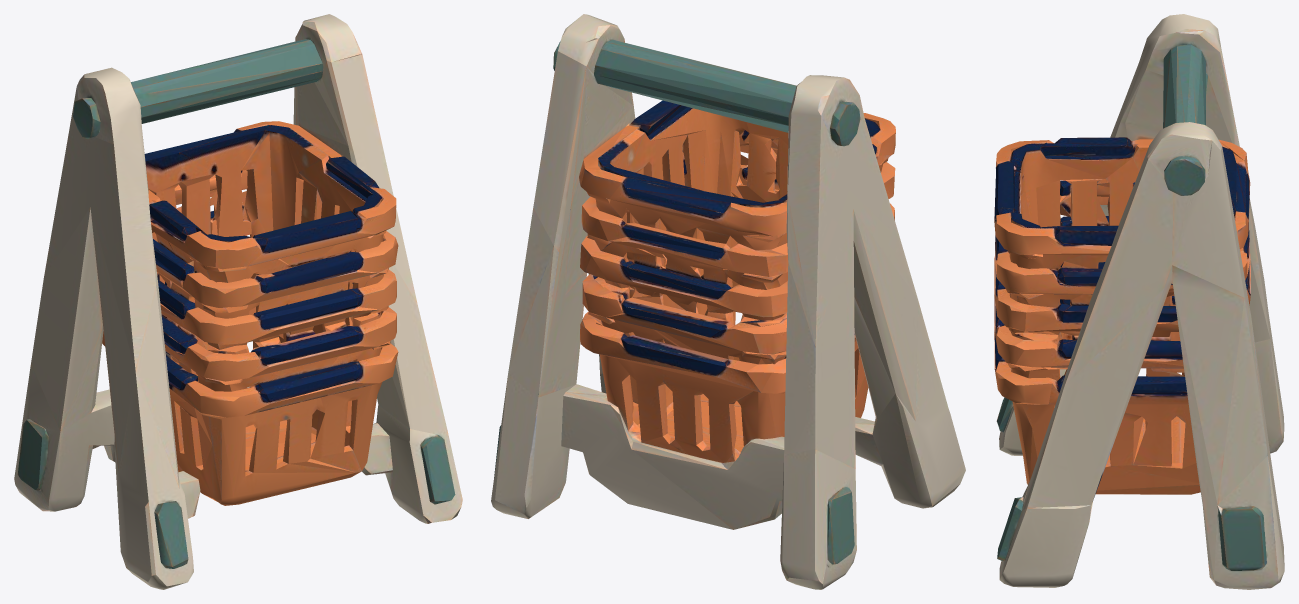
Rendered from basketStand.glb.
The picture shows the model from 3 angles, left to right: view 1: azimuth 30°, elevation 25°; view 2: azimuth 150°, elevation 25°; view 3: azimuth 270°, elevation 25°; orthographic projection. The views are drawn at different scales.
Parts seen in each view (by area): view 1: Mesh_0; view 2: Mesh_0; view 3: Mesh_0.
Boxes of the visible parts, bbox=[...] form: Mesh_0: bbox=[14, 14, 462, 589]; Mesh_0: bbox=[491, 14, 965, 589]; Mesh_0: bbox=[994, 14, 1284, 589].
Bounding box in the file's own units: 0.8277 × 1.1 × 0.65.
Materials: 1 (1 with a texture image).
